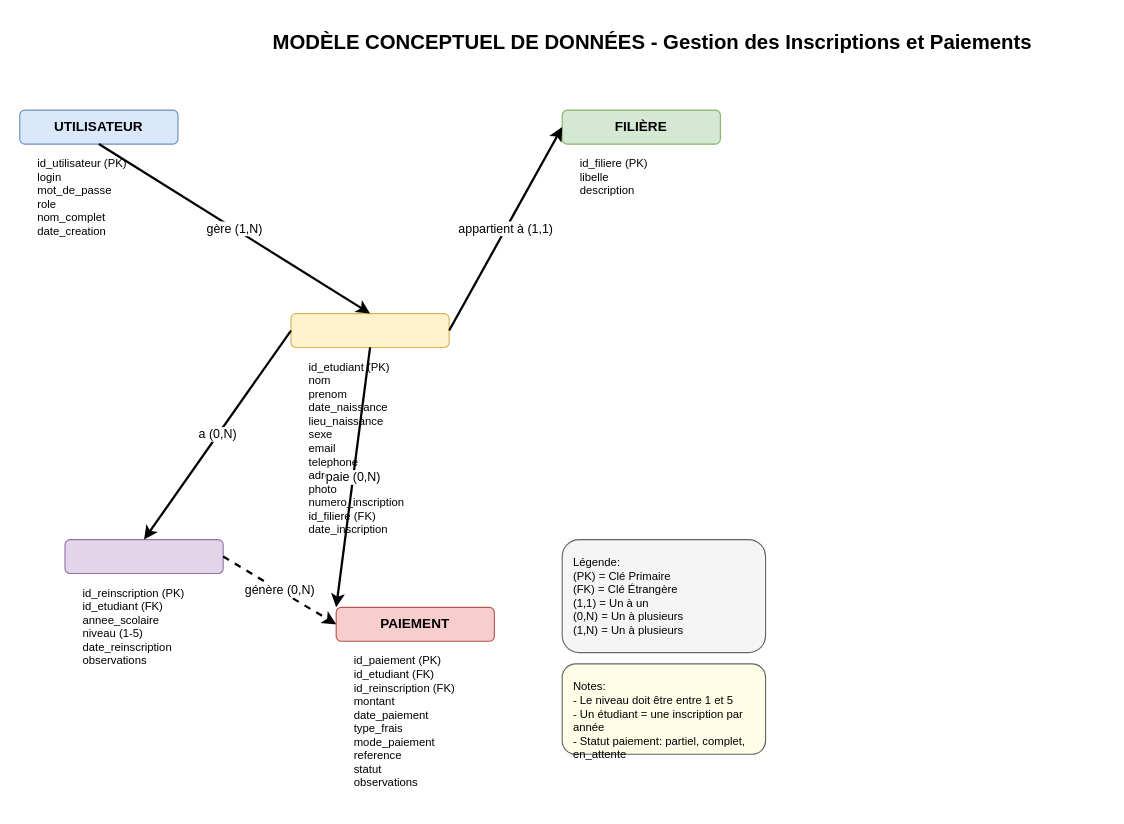
Some shapes in this 1124 by 824 pixel diagram are drawn without their labels. The shapes that lost their labels are listed below. From the top down, each one's centre as x and y in pixels, then its label:
point (369, 329): ÉTUDIANT
point (143, 555): RÉINSCRIPTION
